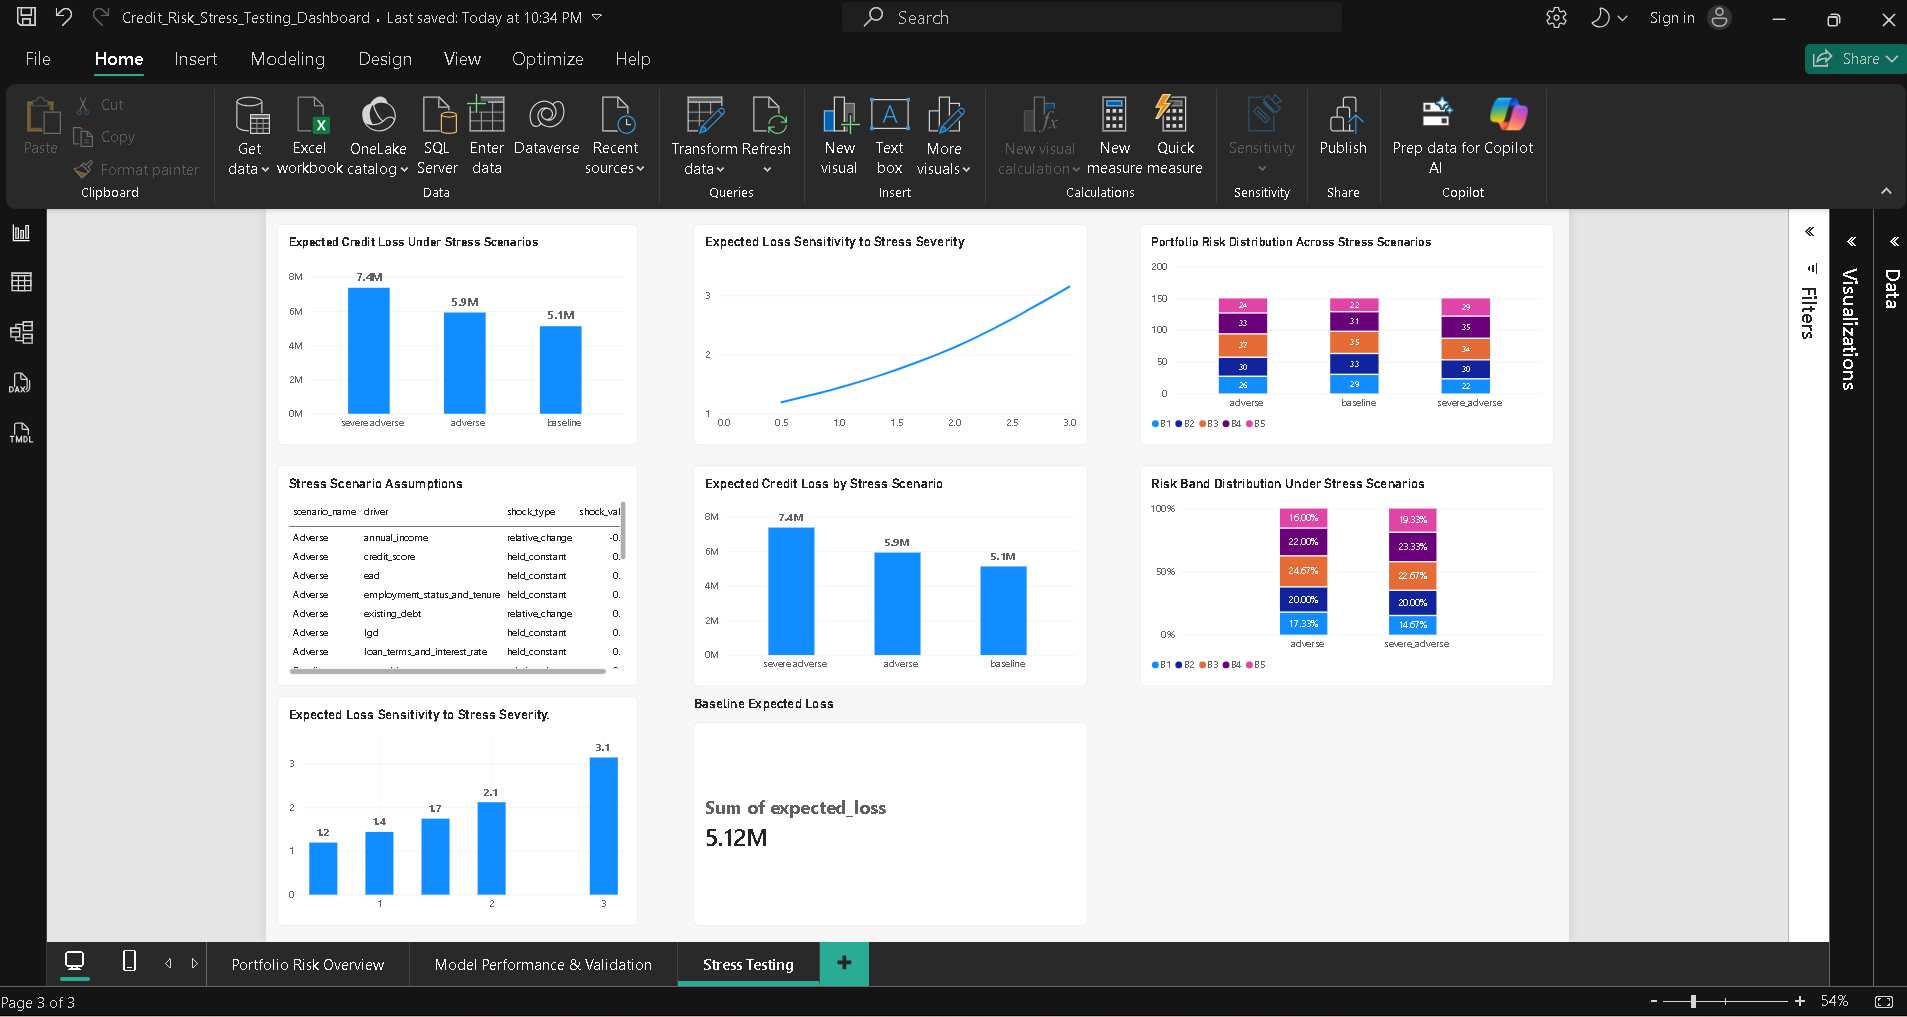

What the dashboard file says about the page in this screenshot:
{"tool":"powerbi","page":{"name":"Stress Testing","canvas":[1920,1080],"ordinal":2},"visuals":[{"type":"clusteredColumnChart","title":"Expected Credit Loss Under Stress Scenarios","fields":{"Category":["DimScenario.scenario_name"],"Y":["Sum(portfolio_summary.expected_loss)"]},"box":[16.5,22.6,531,325.2],"z":0},{"type":"lineChart","title":"Expected Loss Sensitivity to Stress Severity","fields":{"Category":["sensitivity_results.multiplier"],"Y":["Avg(sensitivity_results.expected_loss_ratio_to_baseline)"]},"box":[629.8,22.6,580.4,325.2],"z":1},{"type":"columnChart","title":"Portfolio Risk Distribution Across Stress Scenarios","fields":{"Category":["scenario_results.scenario_id"],"Series":["scenario_results.risk_band"],"Y":["CountNonNull(scenario_results.loan_id)"]},"box":[1286.5,22.6,609.3,325.2],"z":2},{"type":"tableEx","title":"Stress Scenario Assumptions","fields":{"Values":["scenario_assumption.scenario_name","scenario_assumption.driver","scenario_assumption.shock_type","scenario_assumption.shock_value"]},"box":[16.5,376.7,531,325],"z":3},{"type":"clusteredColumnChart","title":"Expected Credit Loss by Stress Scenario","fields":{"Category":["DimScenario.scenario_name"],"Y":["Sum(portfolio_summary.expected_loss)"]},"box":[629.8,376.7,580.4,325.2],"z":4},{"type":"hundredPercentStackedColumnChart","title":"Risk Band Distribution Under Stress Scenarios","fields":{"Category":["scenario_results.scenario_id"],"Series":["scenario_results.risk_band"],"Y":["CountNonNull(scenario_results.loan_id)"]},"box":[1286.5,376.7,609.3,325.2],"z":5},{"type":"clusteredColumnChart","title":"Expected Loss Sensitivity to Stress Severity.","fields":{"Category":["sensitivity_results.multiplier"],"Y":["Avg(sensitivity_results.expected_loss_ratio_to_baseline)"]},"box":[16.5,718.4,531,337.6],"z":6},{"type":"cardVisual","title":"Baseline Expected Loss","fields":{"Data":["Sum(portfolio_summary.expected_loss)"]},"box":[630,718,580,338],"z":7}]}

Visuals, with their boxes on the page's 1920x1080 design canvas (x1, y1, x2, y2). These are canvas units, not pixel positions in the 1907x1017 screenshot, which may show the page scaled, cropped or inside an application window:
"Expected Credit Loss Under Stress Scenarios" clusteredColumnChart: left=16, top=23, right=548, bottom=348
"Expected Loss Sensitivity to Stress Severity" lineChart: left=630, top=23, right=1210, bottom=348
"Portfolio Risk Distribution Across Stress Scenarios" columnChart: left=1286, top=23, right=1896, bottom=348
"Stress Scenario Assumptions" tableEx: left=16, top=377, right=548, bottom=702
"Expected Credit Loss by Stress Scenario" clusteredColumnChart: left=630, top=377, right=1210, bottom=702
"Risk Band Distribution Under Stress Scenarios" hundredPercentStackedColumnChart: left=1286, top=377, right=1896, bottom=702
"Expected Loss Sensitivity to Stress Severity." clusteredColumnChart: left=16, top=718, right=548, bottom=1056
"Baseline Expected Loss" cardVisual: left=630, top=718, right=1210, bottom=1056
